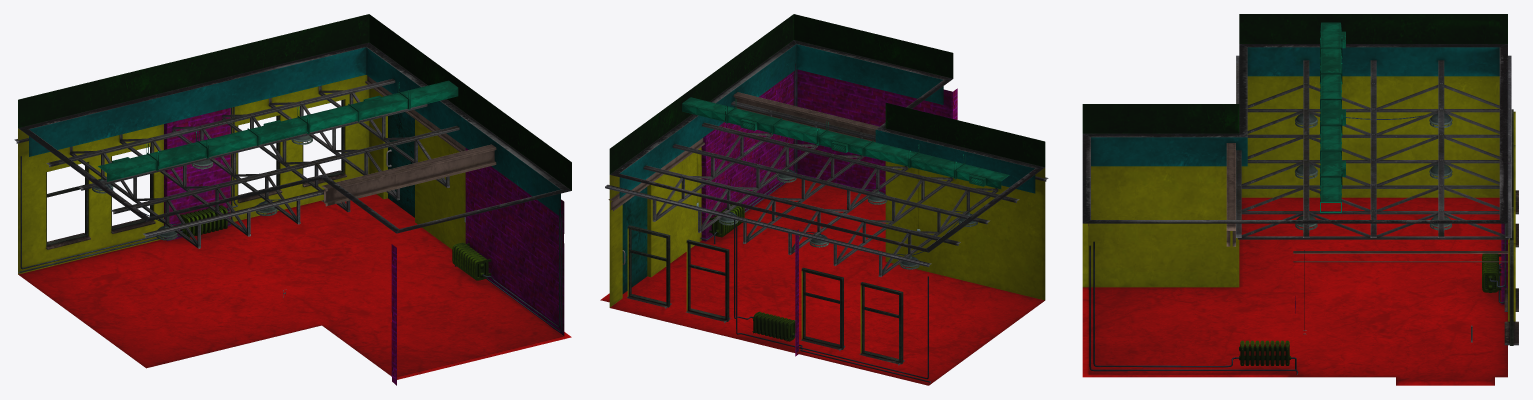
3 views of the same model, side by side, from view 1: azimuth 30°, elevation 25°; view 2: azimuth 150°, elevation 25°; view 3: azimuth 270°, elevation 25° (orthographic). The views are drawn at different scales.
Visible parts, largest first — view 1: Loft, Loft Details; view 2: Loft, Loft Details; view 3: Loft, Loft Details.
Boxes of the visible parts, x1,y1,x2,y2 form: Loft: (18,14,571,385); Loft Details: (14,76,562,332); Loft: (600,14,1045,385); Loft Details: (605,63,1048,382); Loft: (1082,14,1518,385); Loft Details: (1089,22,1511,374).
Size of the model in its own units: 21.8 by 10.13 by 21.49.
2 materials, 2 textured.
